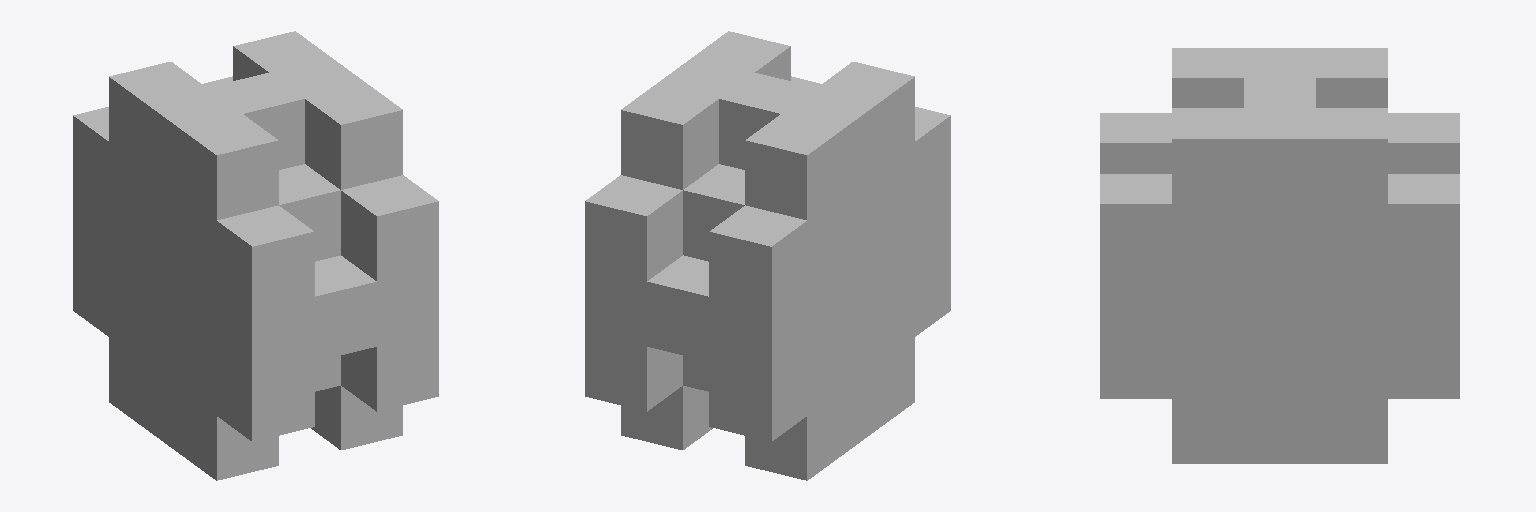
The model's file is BlockThing_Quads.obj.
3 renders of one model, left to right at view 1: azimuth 30°, elevation 25°; view 2: azimuth 150°, elevation 25°; view 3: azimuth 270°, elevation 25°, orthographic.
Parts seen in each view (by area): view 1: Block_Thing; view 2: Block_Thing; view 3: Block_Thing.
Boxes of the visible parts, <box> form: Block_Thing: <box>73,31,438,480</box>; Block_Thing: <box>585,31,950,480</box>; Block_Thing: <box>1100,48,1459,463</box>.
Bounding box in the file's own units: 0.366 × 0.61 × 0.61.